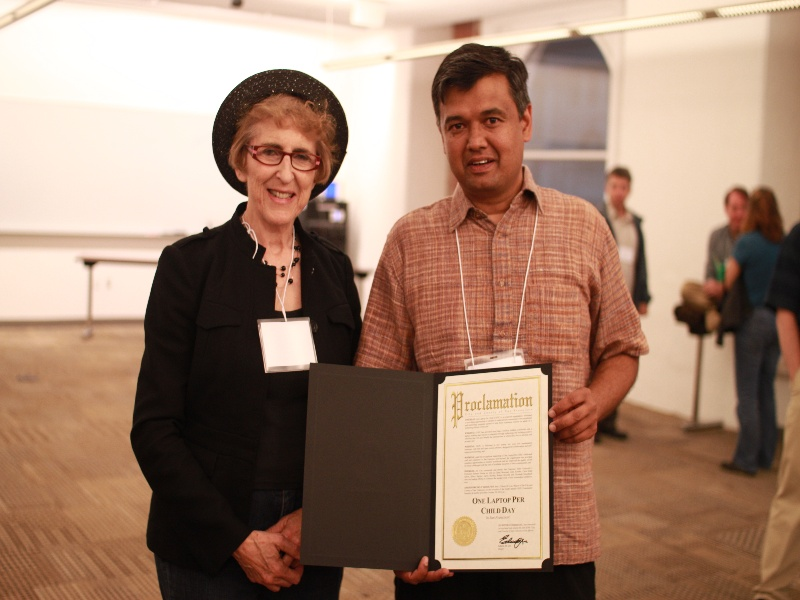face: (433, 76, 538, 196), (230, 107, 332, 224)
